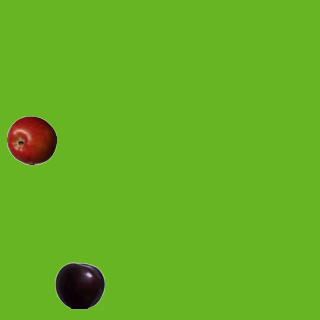Apple Braeburn: (6, 115, 56, 165)
Cherry Wax Black: (54, 260, 104, 310)
